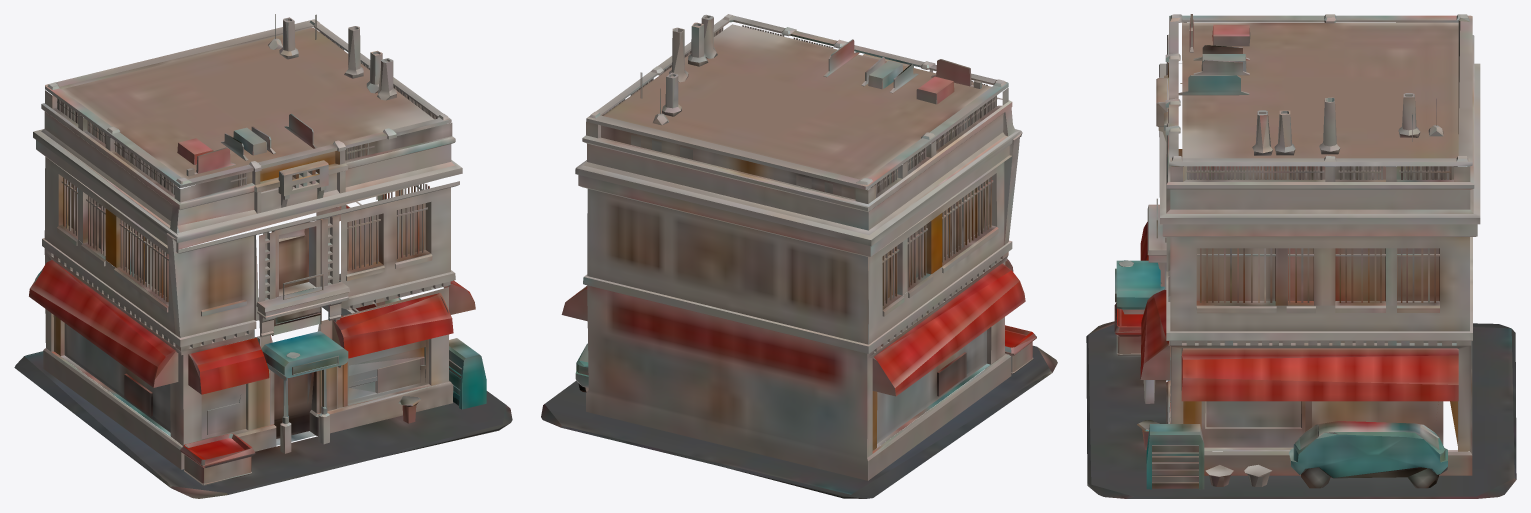
Rendered from toko_1_lod2.glb.
3 renders of one model, left to right at view 1: azimuth 30°, elevation 25°; view 2: azimuth 150°, elevation 25°; view 3: azimuth 270°, elevation 25°, orthographic. The views are drawn at different scales.
Parts seen in each view (by area): view 1: tripo_node_66913f8a; view 2: tripo_node_66913f8a; view 3: tripo_node_66913f8a.
Part boxes in pixels (x1=…): tripo_node_66913f8a: x1=14, y1=14, x2=512, y2=498; tripo_node_66913f8a: x1=541, y1=14, x2=1057, y2=498; tripo_node_66913f8a: x1=1086, y1=14, x2=1516, y2=498.
Bounding box in the file's own units: 0.999 × 0.9386 × 0.9979.
1 material, 1 textured.
